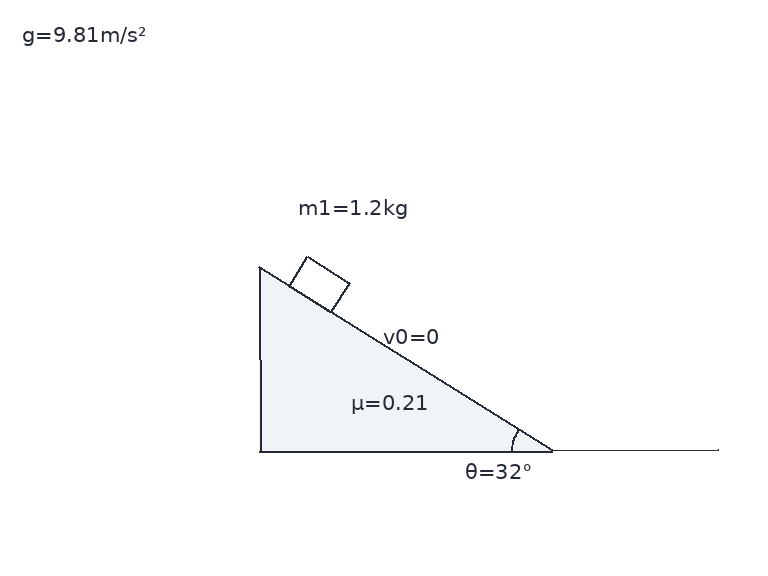block: (287, 254, 351, 314)
ramp: (257, 266, 554, 453)
